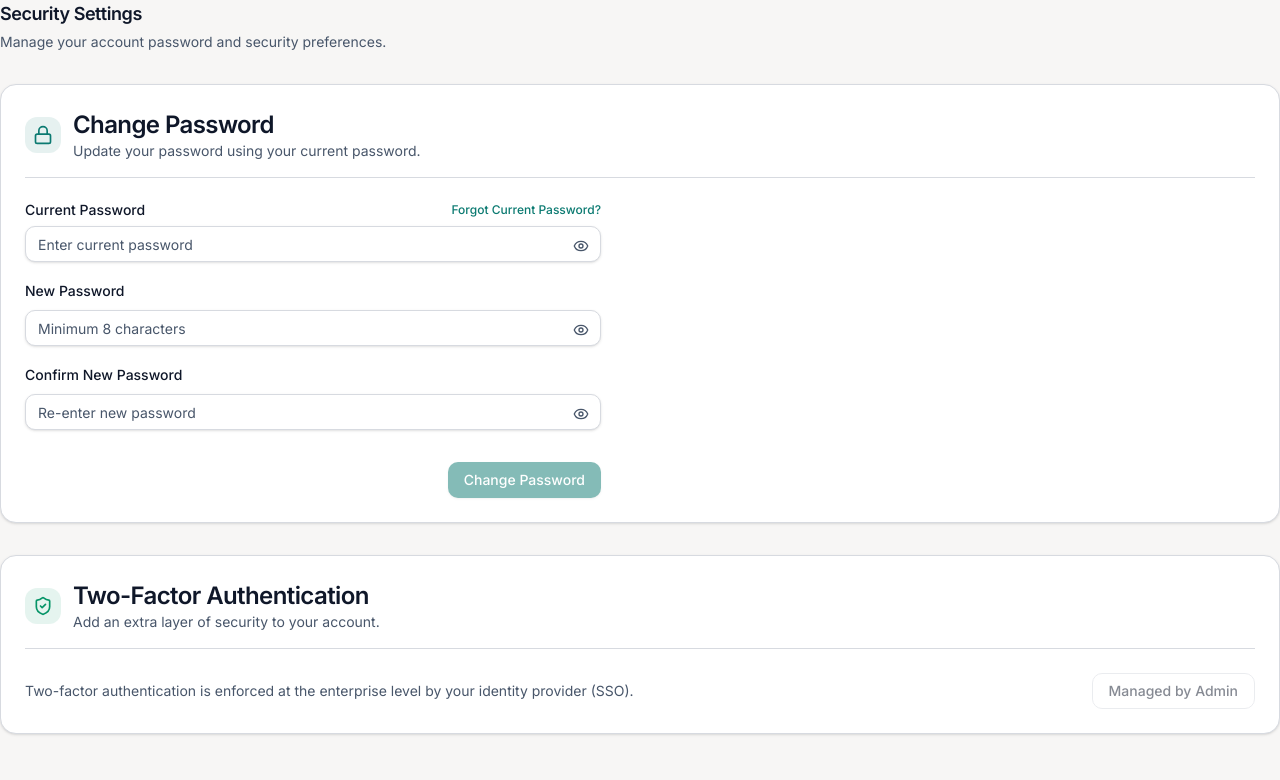
Test case: Security Settings: Dual-Path In-Place Password Change (Phase 4) › Path A — User Knows Current Password › 5. Invalid current password displays appropriate error
The width and height of the screenshot is (1280, 780).
Type "WrongCurrentPassword!" into the password field labelled "Current Password" at (313, 244), box [25,226,601,262]
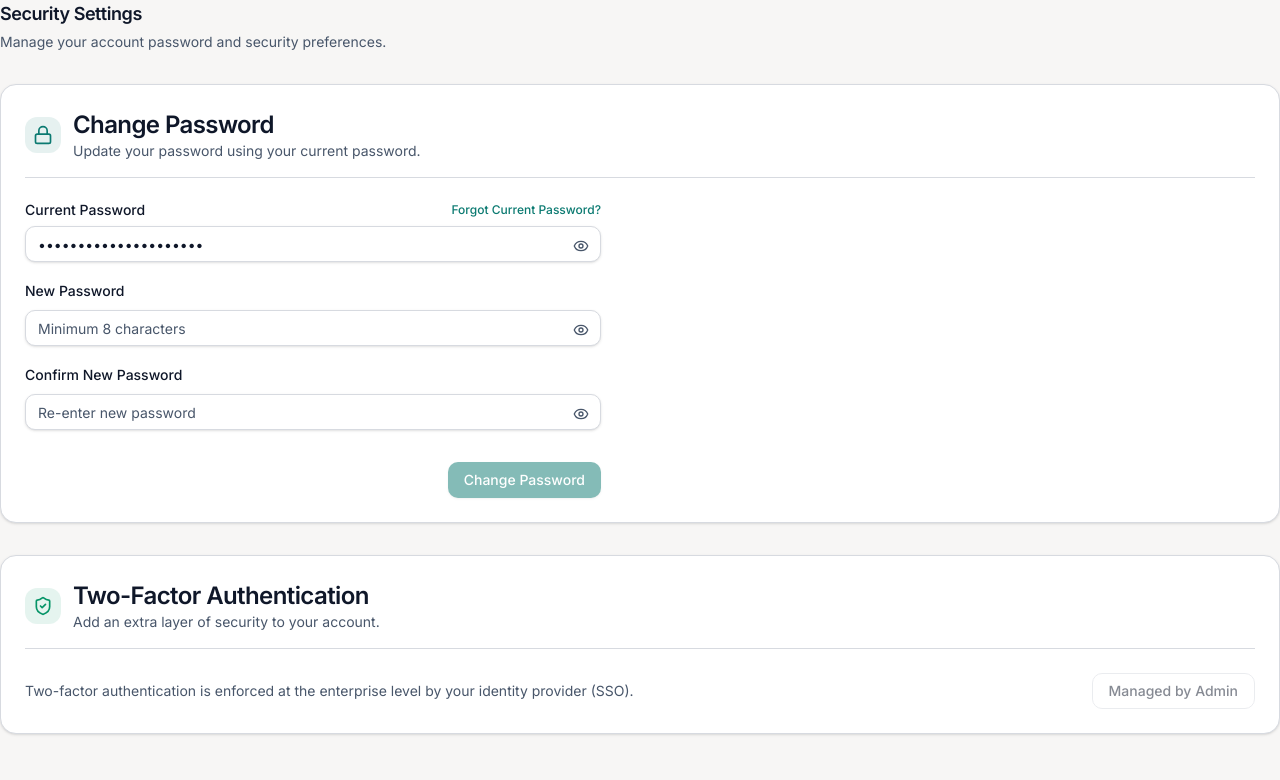
Type "ValidNewPassword123!" into the password field labelled "New Password" at (313, 328), box [25,310,601,346]
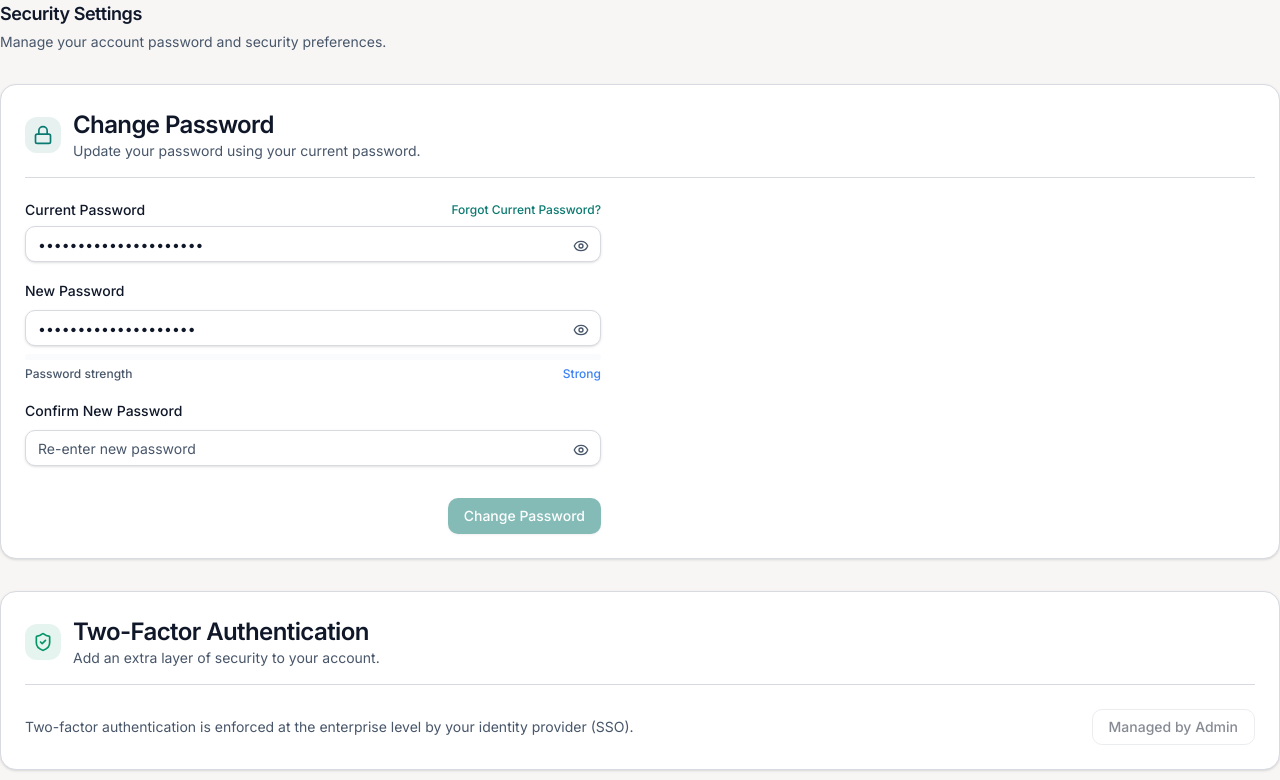
Type "ValidNewPassword123!" into the password field labelled "Confirm New Password" at (313, 448), box [25,430,601,466]
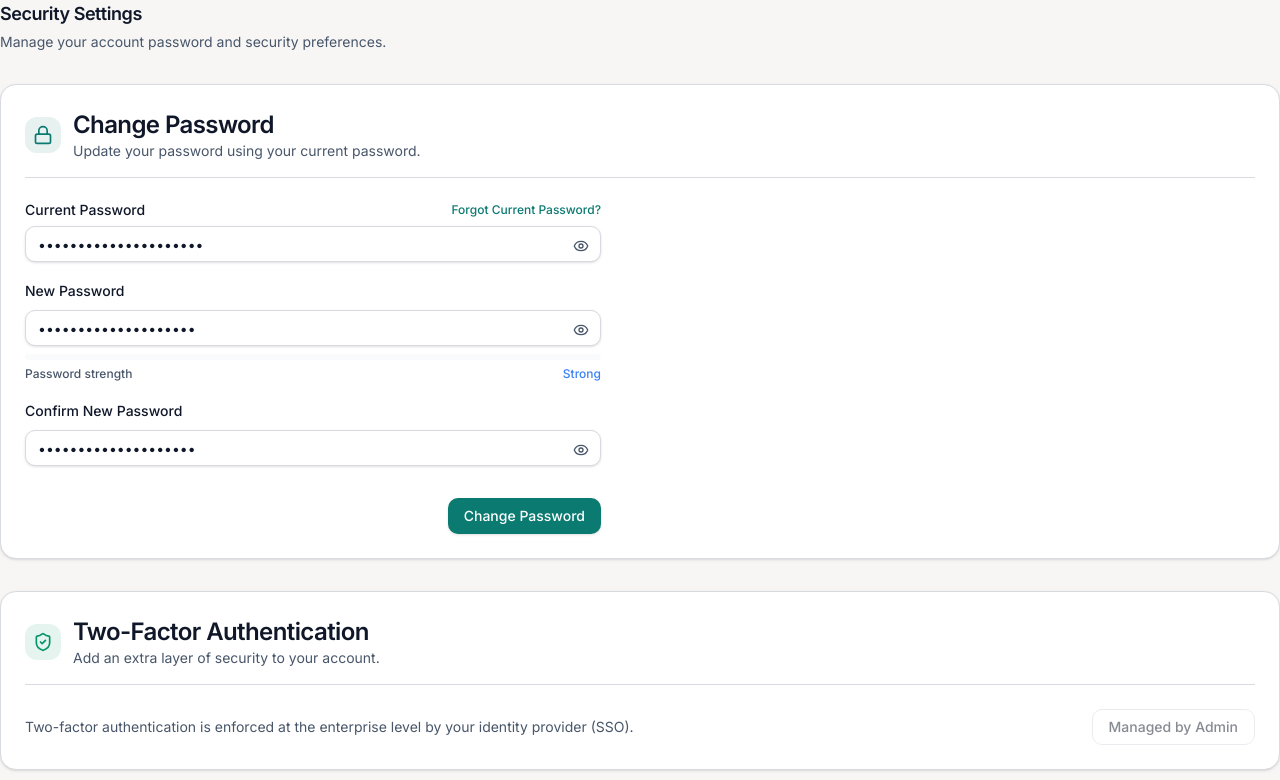
Click the button "Change Password" at (524, 516), box [448,498,601,534]
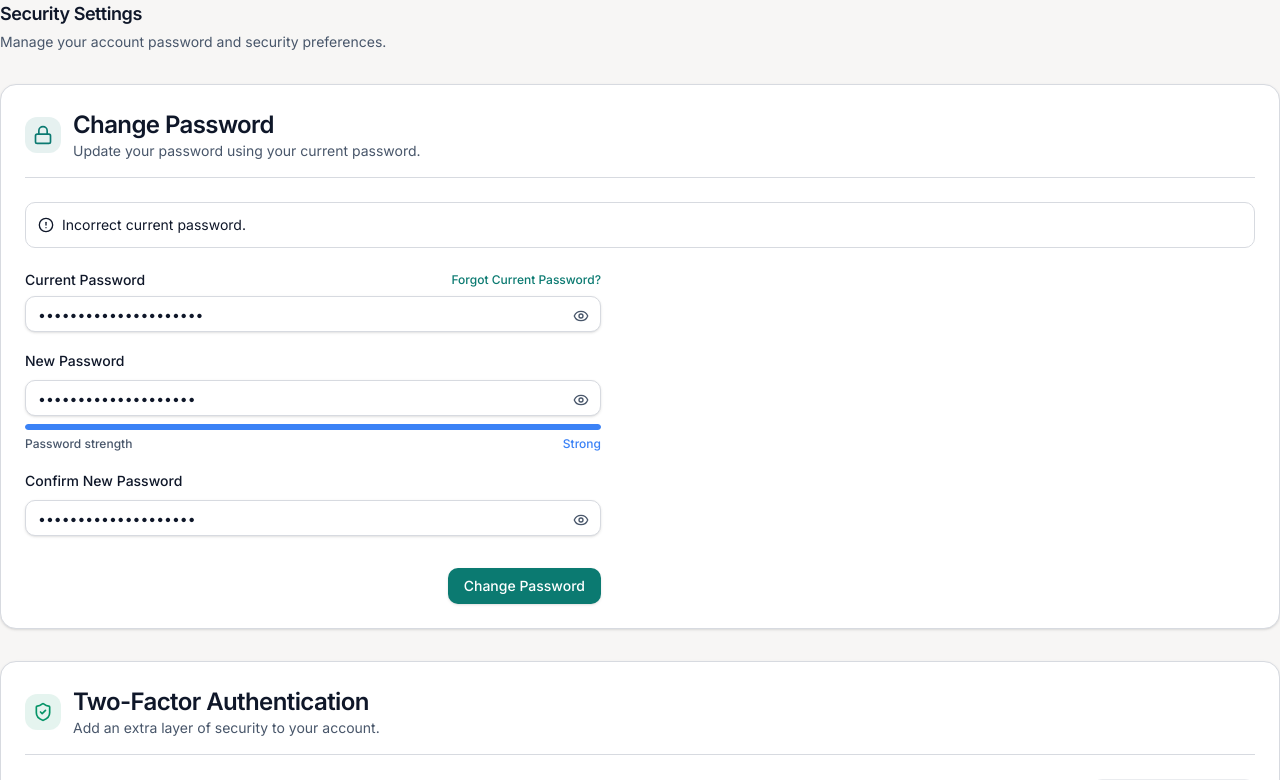
expect the text "Incorrect current password." is shown: met, box [62,215,246,235]
